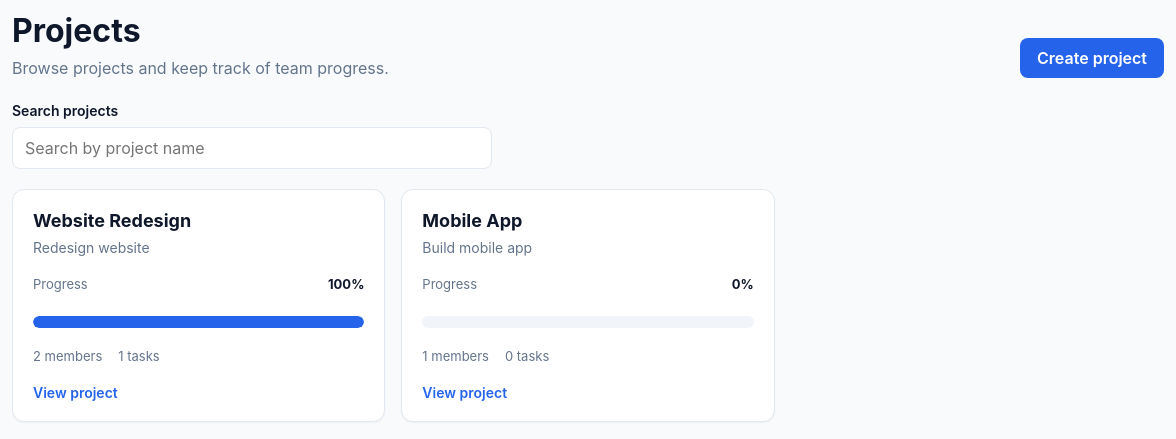
Test: ProjectsPage › filters projects by search term
Check: the heading "Website Redesign" is shown, box [33, 210, 191, 231]
Type "mobile" into the search field labelled "Search projects".
click(252, 148); type("mobile")  # box [12, 127, 492, 169]
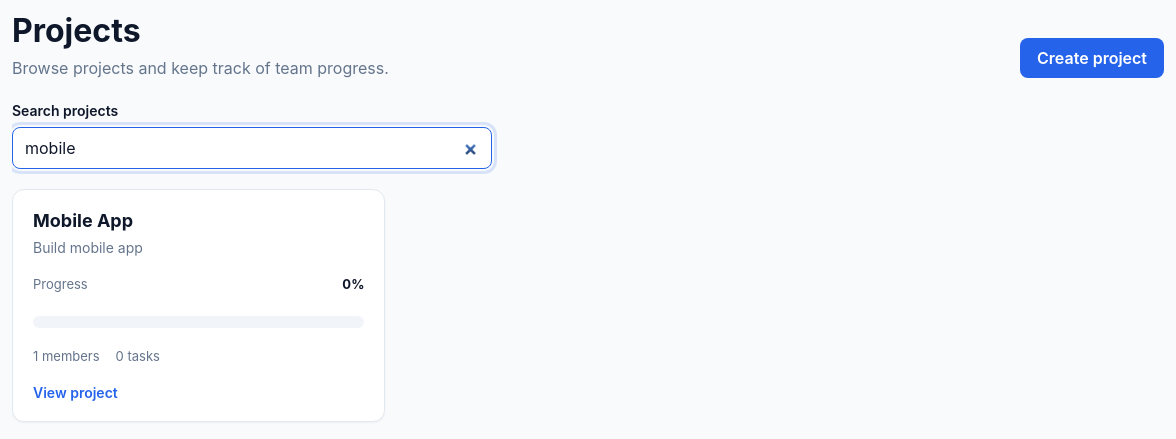
Check: the heading "Mobile App" is shown, box [33, 210, 133, 231]
Check: the heading "Website Redesign" is gone
